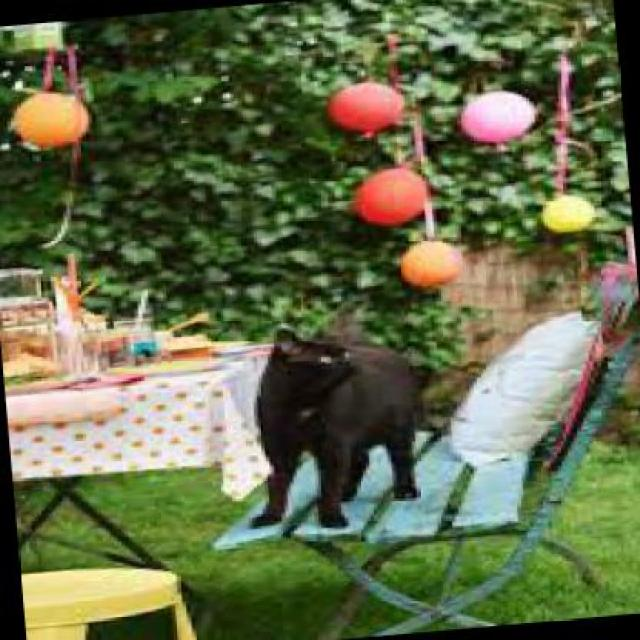animals: (221, 304, 496, 545)
